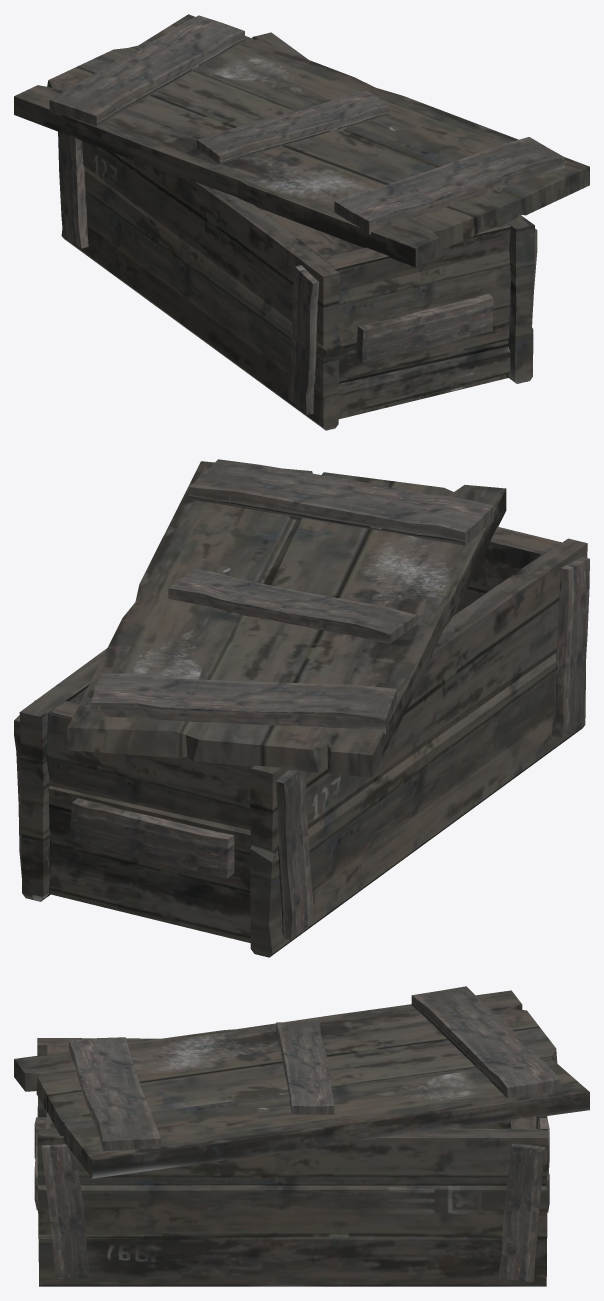
Rendered from crate.glb.
The picture shows the model from 3 angles, top to bottom: view 1: azimuth 30°, elevation 25°; view 2: azimuth 150°, elevation 25°; view 3: azimuth 270°, elevation 25°; orthographic projection. The views are drawn at different scales.
Visible parts, largest first — view 1: medieval_crate_og001_Standardmaterial_0, lid_wide_og_Standardmaterial_0; view 2: medieval_crate_og001_Standardmaterial_0, lid_wide_og_Standardmaterial_0; view 3: medieval_crate_og001_Standardmaterial_0, lid_wide_og_Standardmaterial_0.
Boxes of the visible parts, left/top/right/bottom form: medieval_crate_og001_Standardmaterial_0: left=58, top=32, right=537, bottom=430; lid_wide_og_Standardmaterial_0: left=14, top=14, right=589, bottom=267; medieval_crate_og001_Standardmaterial_0: left=14, top=526, right=589, bottom=957; lid_wide_og_Standardmaterial_0: left=67, top=459, right=506, bottom=777; medieval_crate_og001_Standardmaterial_0: left=34, top=1038, right=549, bottom=1286; lid_wide_og_Standardmaterial_0: left=14, top=986, right=589, bottom=1178.
Size of the model in its own units: 37.28 by 18.35 by 53.3.
Materials: 2 (2 with a texture image).
